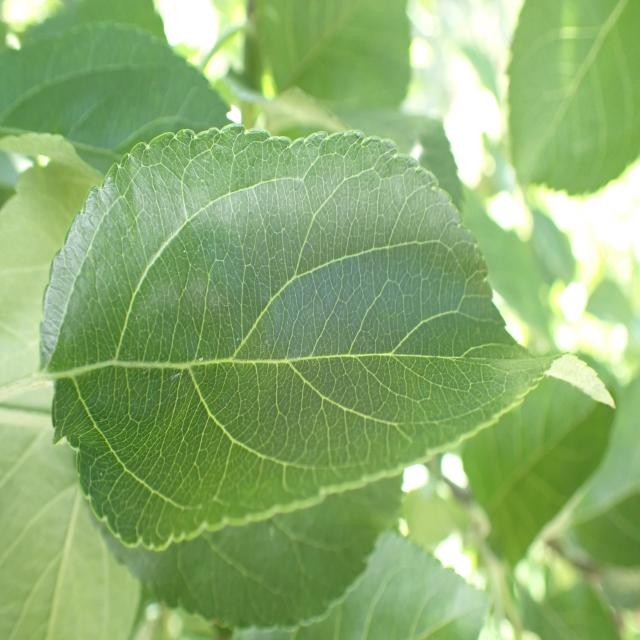healthy: (42, 123, 563, 554), (96, 467, 408, 631), (0, 10, 240, 175), (459, 350, 618, 569), (0, 406, 145, 640), (504, 0, 639, 199), (290, 528, 492, 639), (245, 0, 413, 120)
